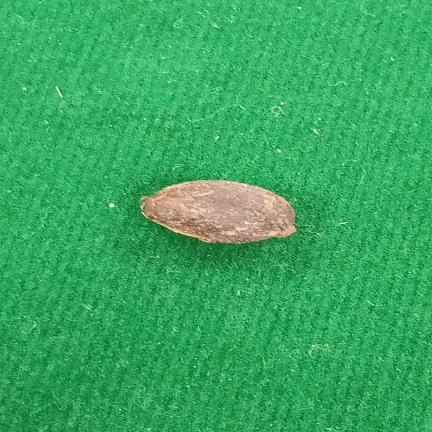full-black: (141, 180, 296, 244)
